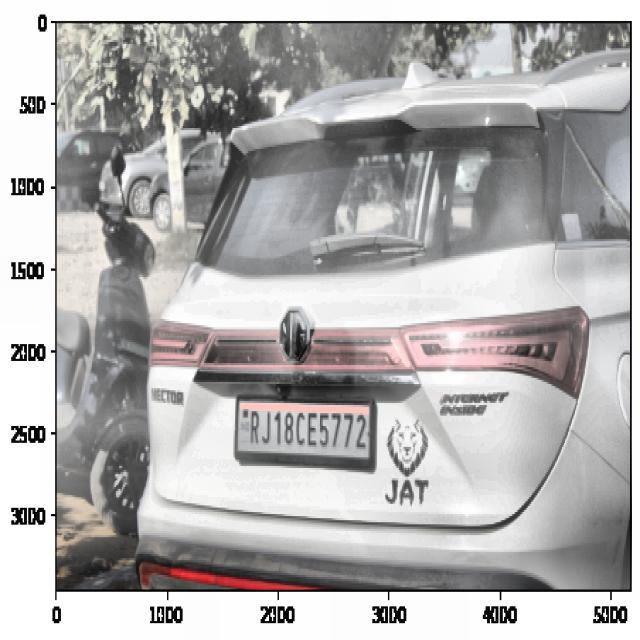license_plate: (243, 406, 373, 459)
